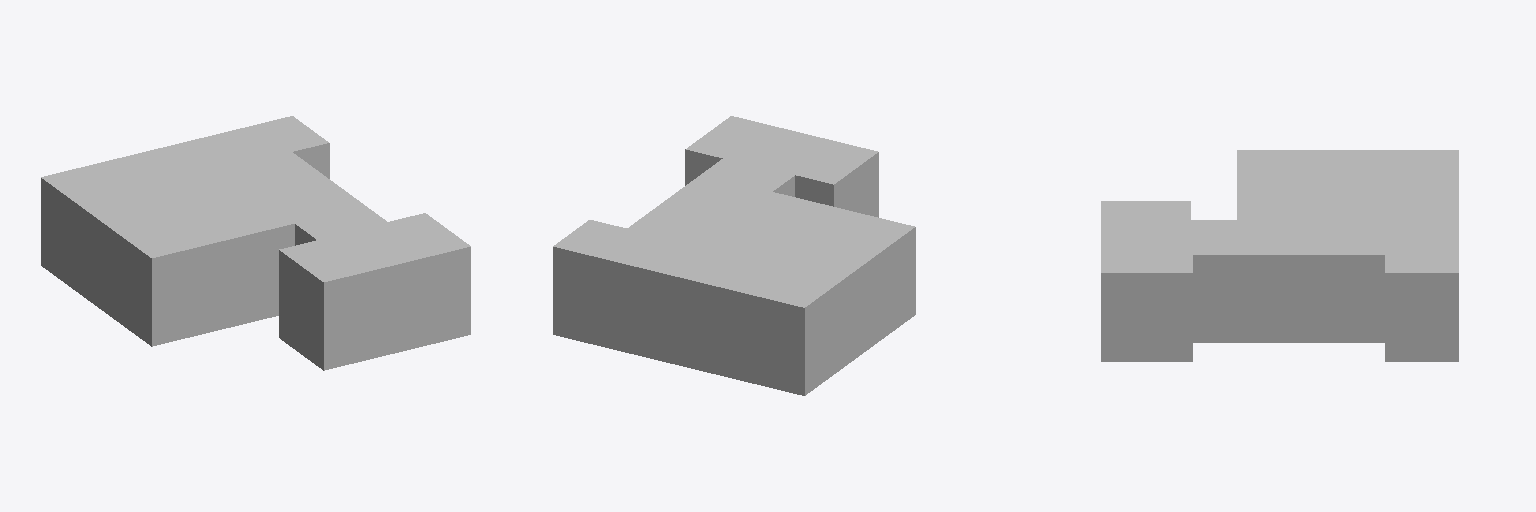
The model's file is bogard2.obj.
3 renders of one model, left to right at view 1: azimuth 30°, elevation 25°; view 2: azimuth 150°, elevation 25°; view 3: azimuth 270°, elevation 25°, orthographic.
Visible parts, largest first — view 1: Cube; view 2: Cube; view 3: Cube.
Part boxes in pixels (left/top/right/bottom): Cube: left=41, top=116, right=470, bottom=370; Cube: left=553, top=116, right=915, bottom=395; Cube: left=1101, top=150, right=1458, bottom=361.
Bounding box in the file's own units: 5.98 × 2 × 7.34.